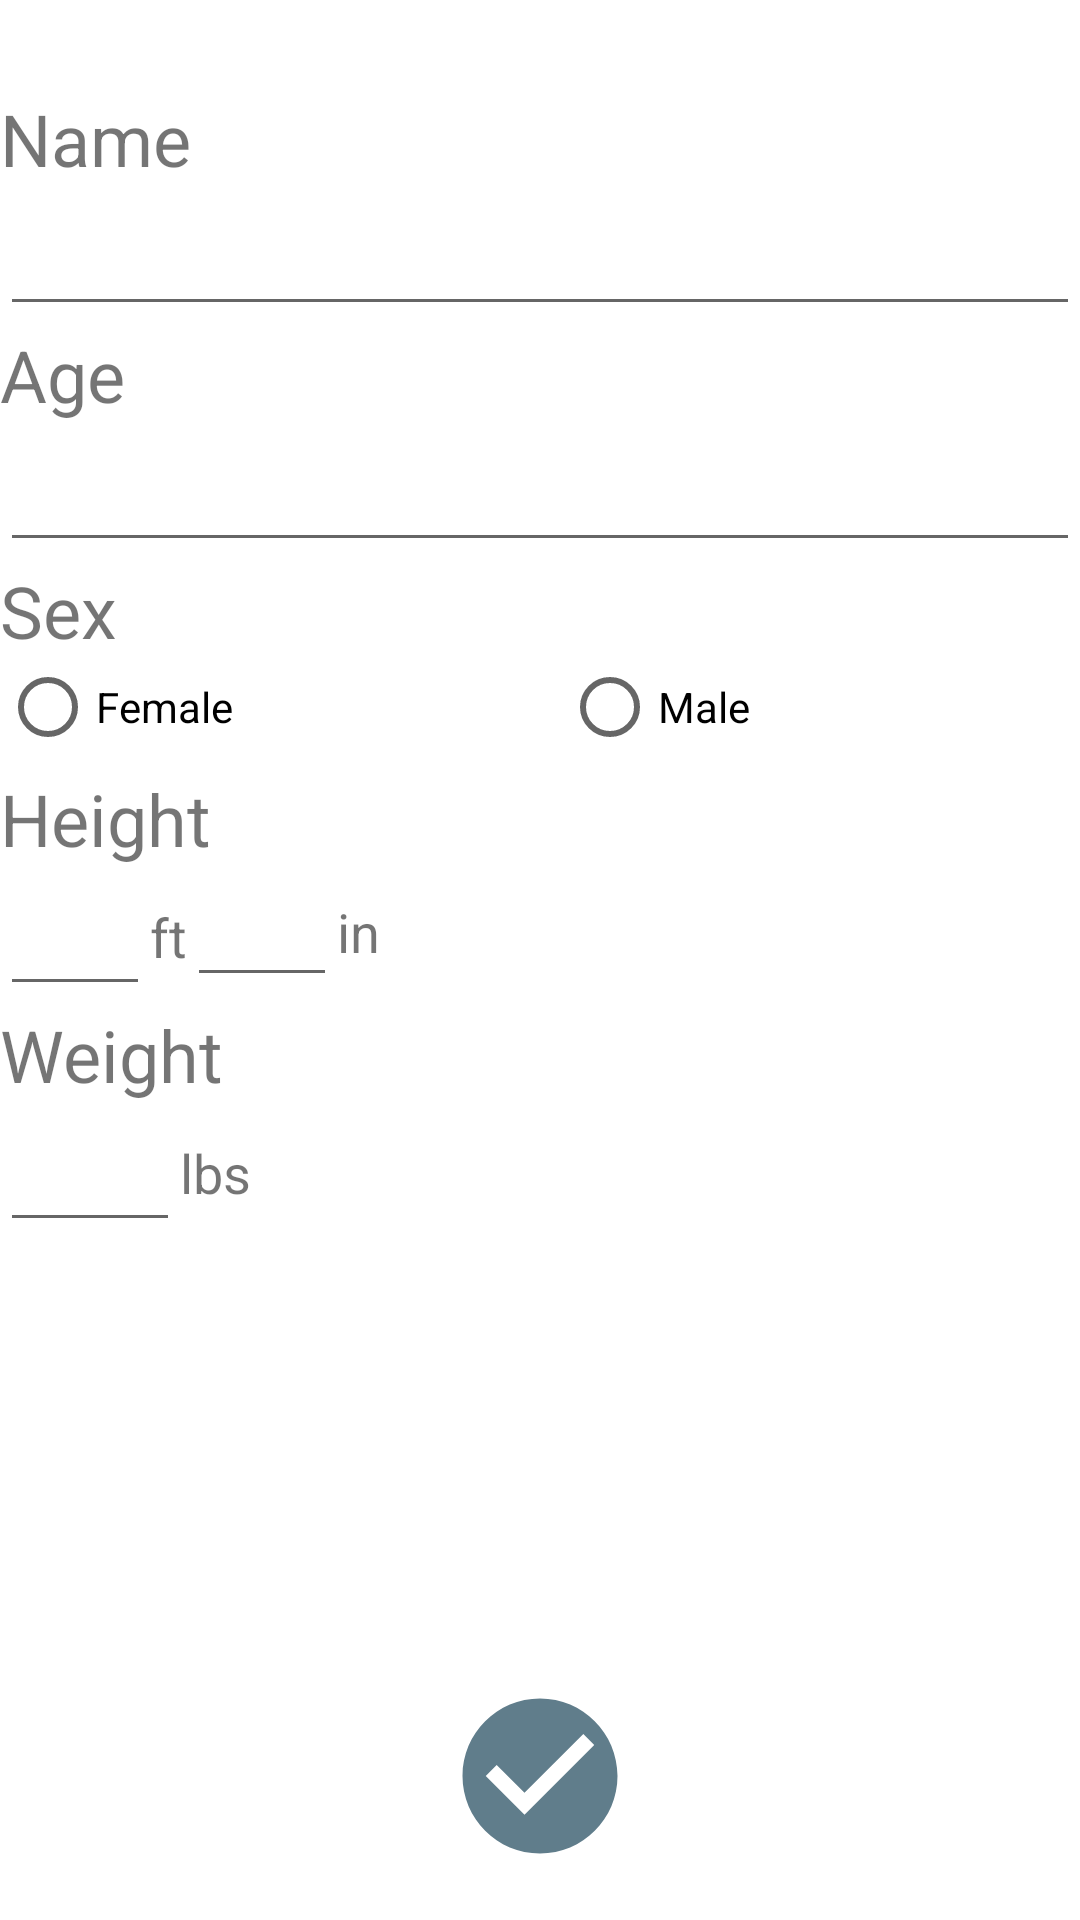

Where to tap for icons on this 1080×1920 app screen, as point (x, y):
check circle: point (540, 1776)
